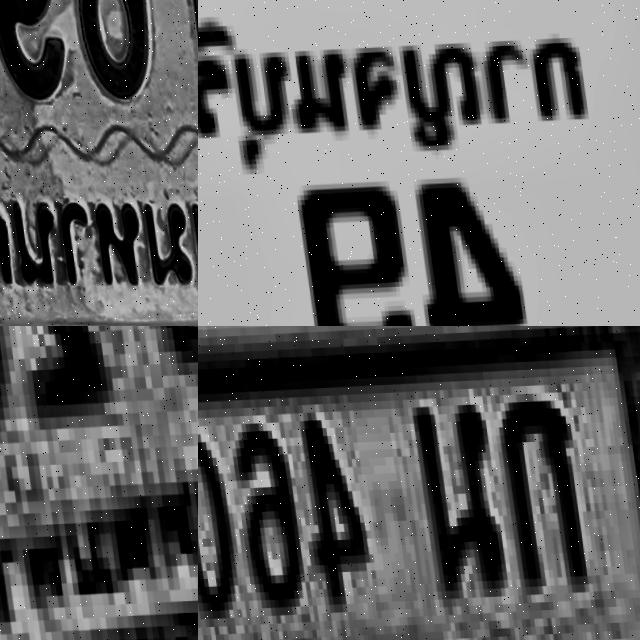license-plate: (198, 0, 640, 326), (198, 326, 640, 640), (0, 0, 198, 326), (0, 326, 198, 640)
